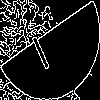I: (25, 25, 53, 72)
